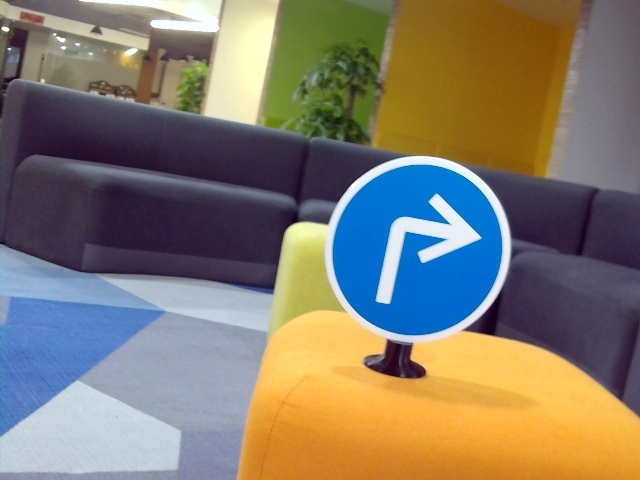turn_right: (367, 192, 479, 303)
